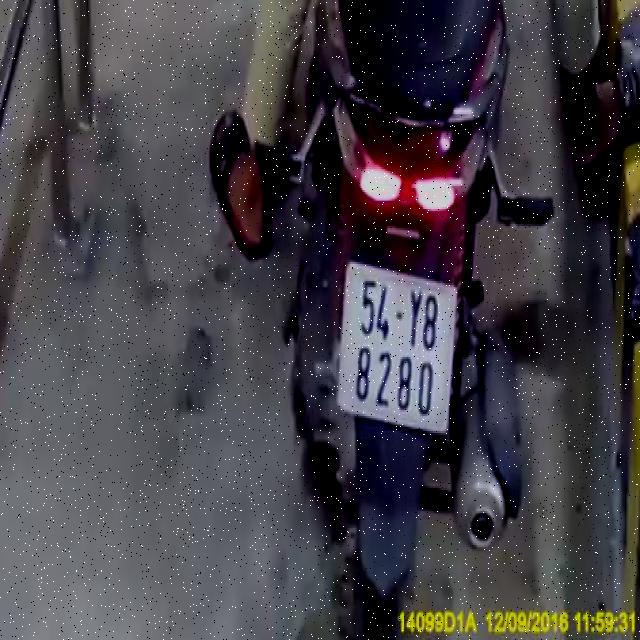0: (418, 363, 434, 419)
2: (376, 349, 391, 414)
4: (377, 285, 392, 345)
5: (361, 272, 376, 345)
8: (395, 357, 414, 418), (424, 294, 438, 359), (358, 348, 370, 416)
Y: (409, 288, 424, 350)
